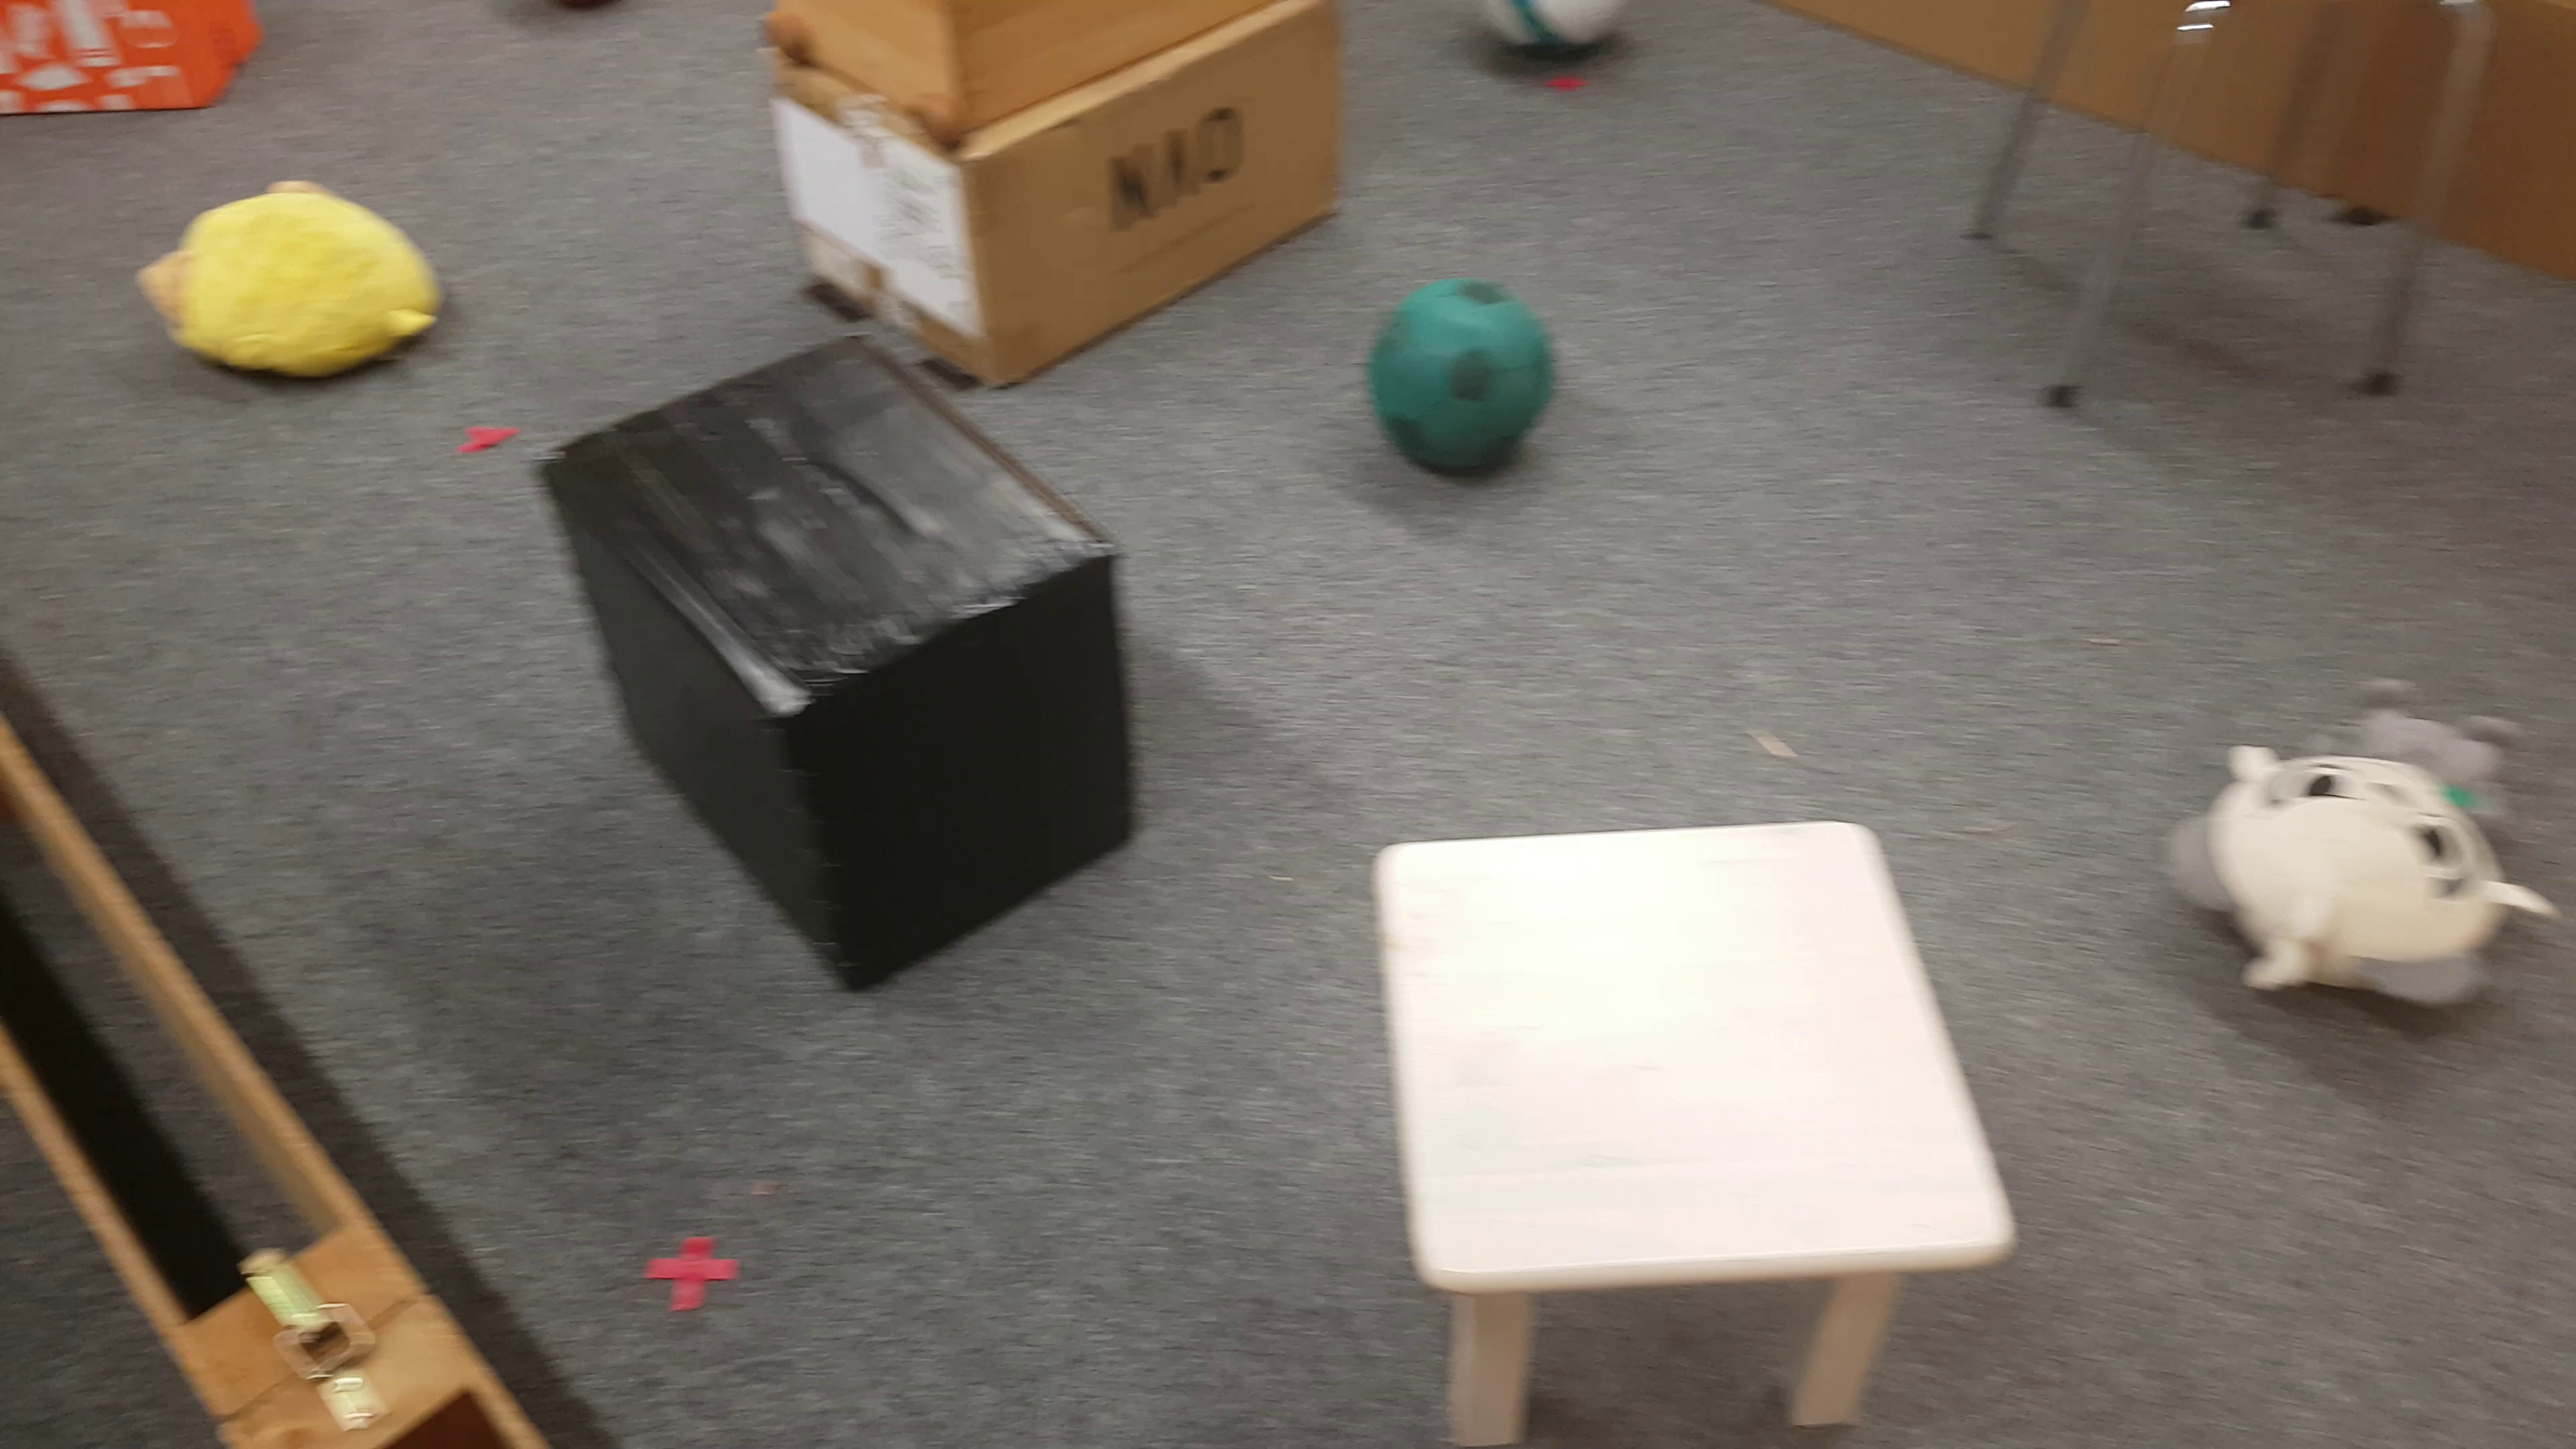grasp: (2171, 671, 2548, 1049), (145, 175, 455, 377)
kick: (1359, 274, 1553, 488), (1476, 2, 1633, 78)
push: (538, 336, 1143, 1000), (0, 7, 262, 117)
